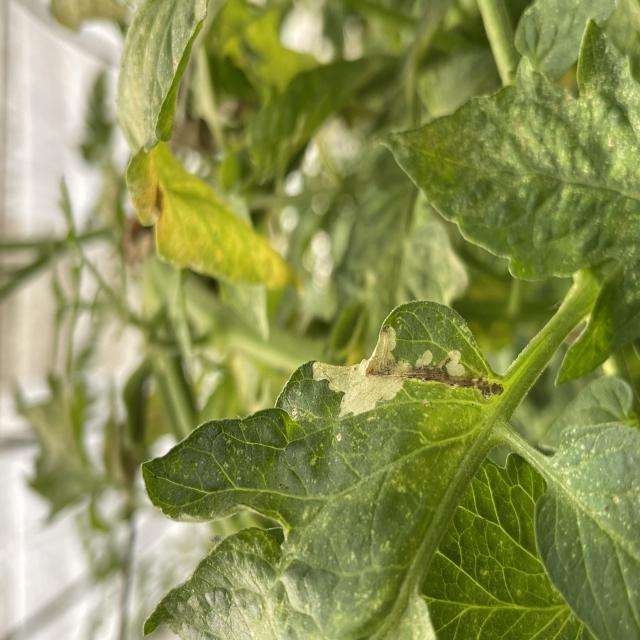Tuta absoluta: (307, 325, 421, 426), (442, 349, 467, 381), (413, 349, 436, 372)
